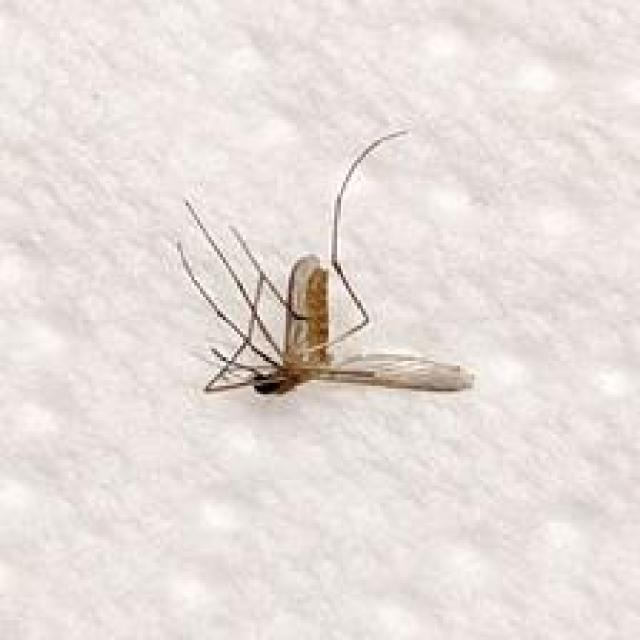Culex: (174, 127, 477, 399)
